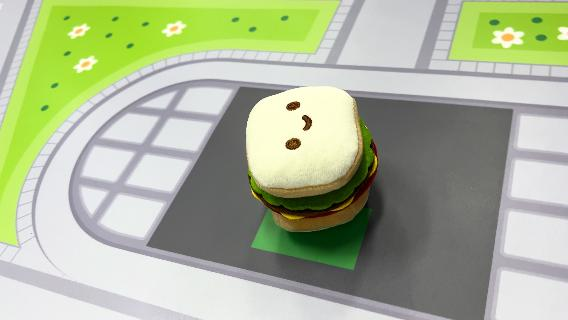sandwich: (244, 83, 380, 233)
